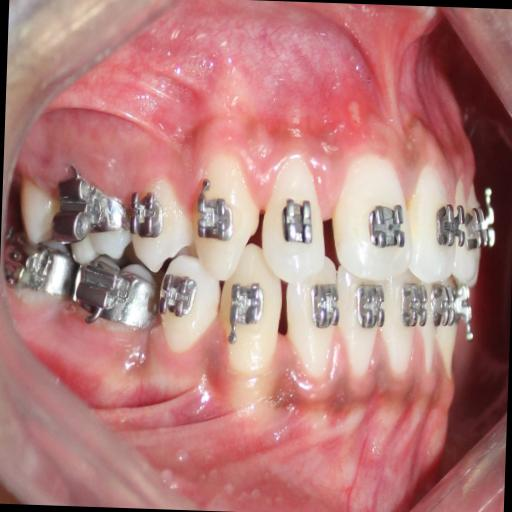correct_brace: (124, 178, 194, 276), (196, 178, 240, 250), (364, 196, 409, 254), (280, 189, 316, 250)
incorrect_brace: (260, 148, 326, 286), (128, 172, 165, 248)
